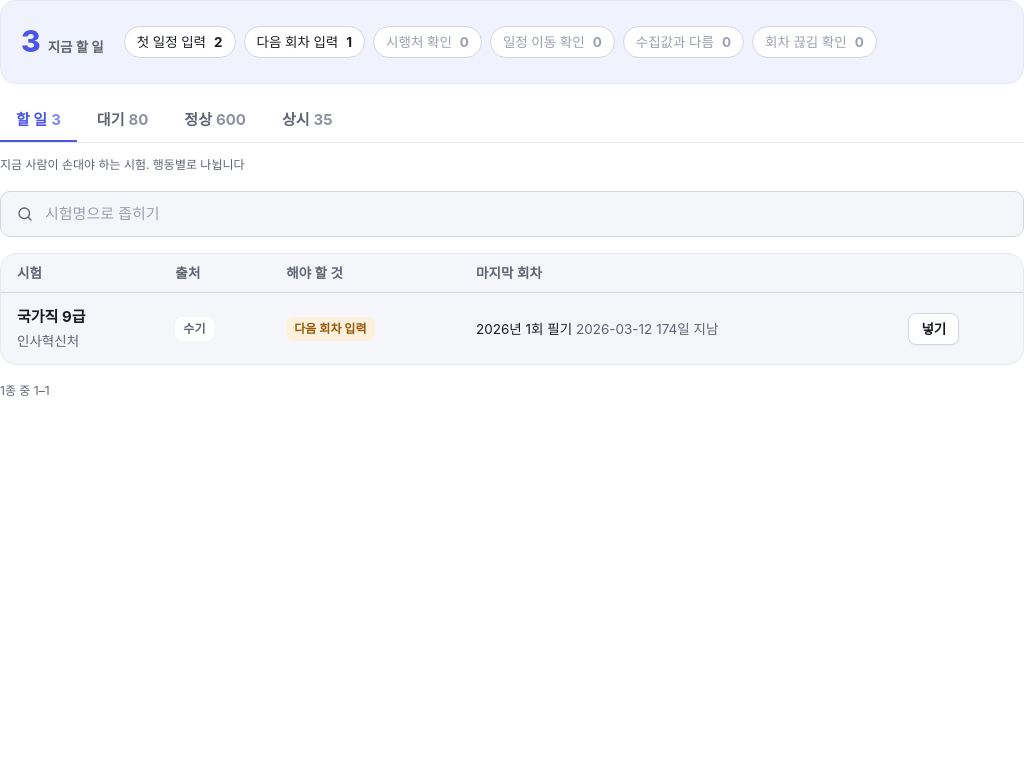
AdminOverview — 할 일 › [넣기]를 누르면 그 시험의 일정 모달이 뜬다
The width and height of the screenshot is (1024, 768).
Click the button "넣기" at (934, 329), box [908,313,959,345]
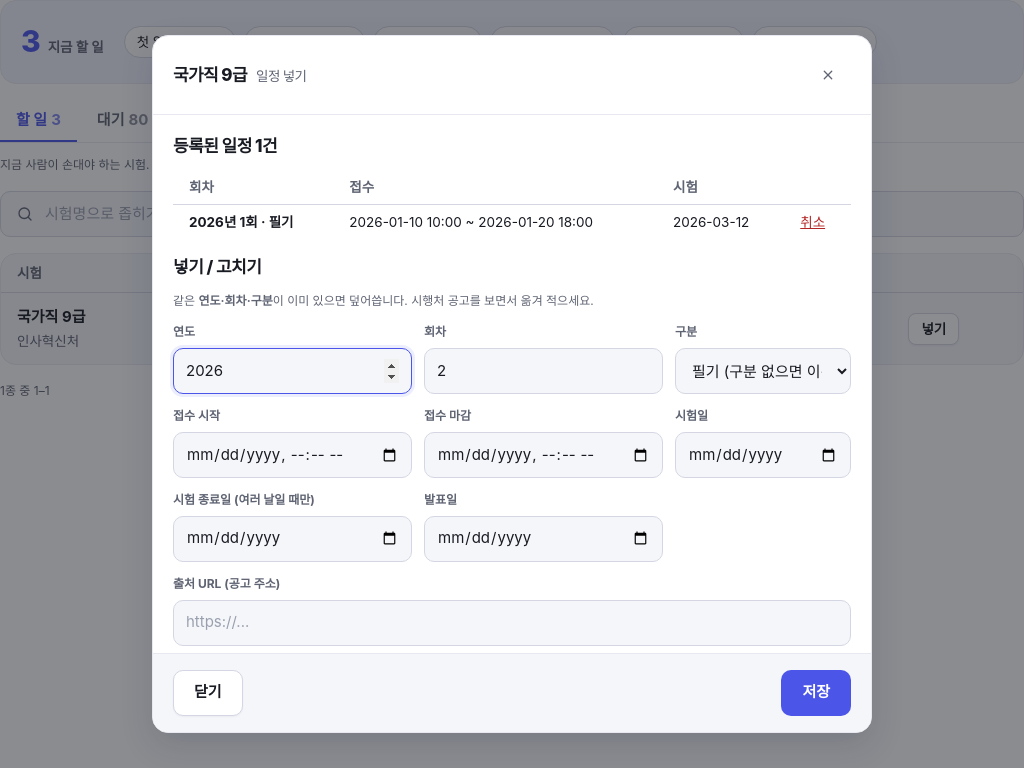
Now the dialog shows "국가직 9급", box [173,65,247,85]
Now the dialog shows "2026년 1회", box [189,214,258,230]
Now the number field labelled "회차" holds "2", box [424,348,663,394]
